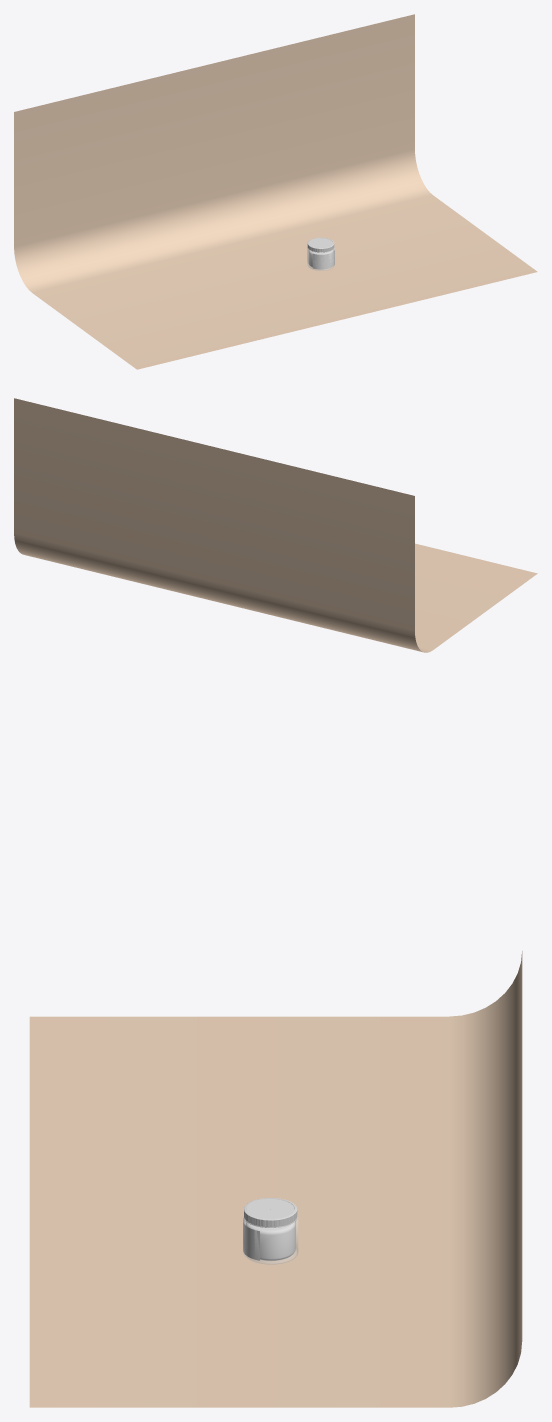
File: bottle3.gltf
3 views of the same model, one above another, from view 1: azimuth 30°, elevation 25°; view 2: azimuth 150°, elevation 25°; view 3: azimuth 270°, elevation 25° (orthographic). The views are drawn at different scales.
Parts seen in each view (by area): view 1: Background; view 2: Background; view 3: Background, Bottle_001, Bottle_002, Buttr_Cream.
Boxes of the visible parts, x1,y1,x2,y2 form: Background: (14, 14, 537, 369); Background: (14, 398, 537, 652); Background: (29, 951, 522, 1407); Bottle_001: (243, 1217, 297, 1264); Bottle_002: (243, 1198, 297, 1227); Buttr_Cream: (245, 1222, 295, 1260).
Bounding box in the file's own units: 33.48 × 13.38 × 17.81.
